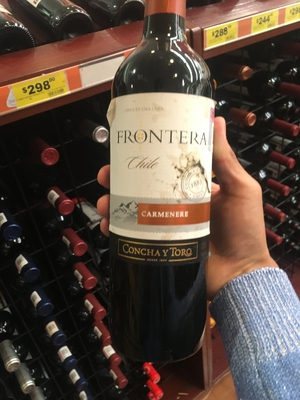frontera carmenere: (88, 24, 235, 384)
